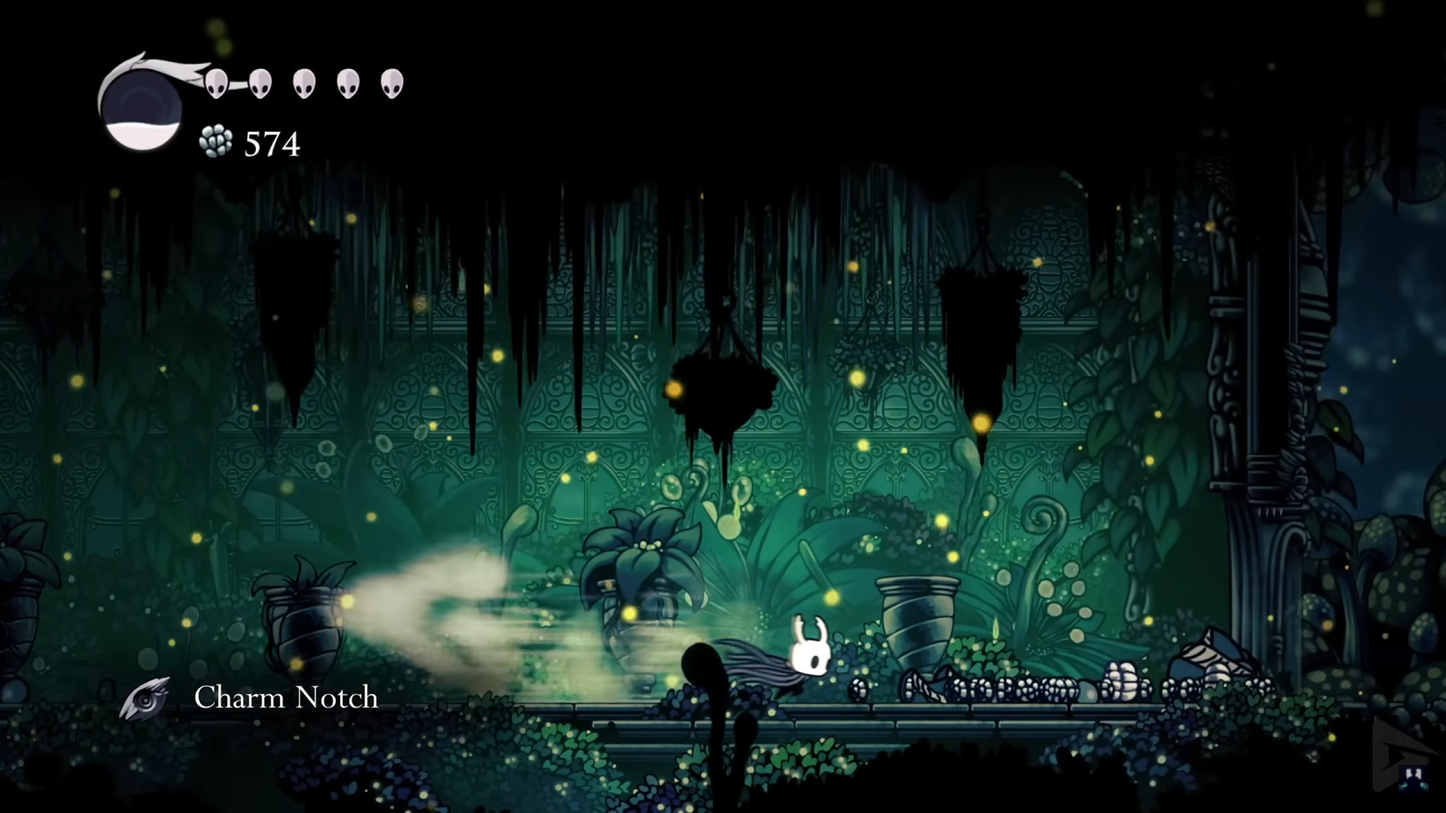HK: (718, 609, 835, 705)
